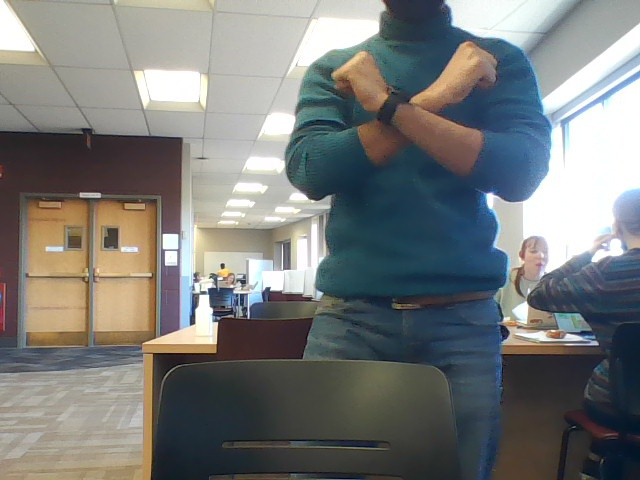cancel: (328, 43, 503, 175)
